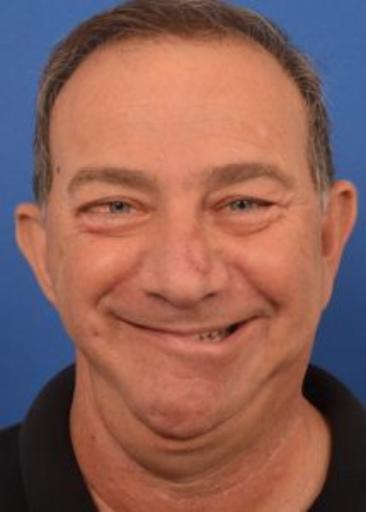left_eye: (214, 197, 275, 217)
left_lip_corner: (257, 310, 273, 325)
right_eye: (84, 198, 150, 219)
right_lip_corner: (104, 307, 125, 320)
